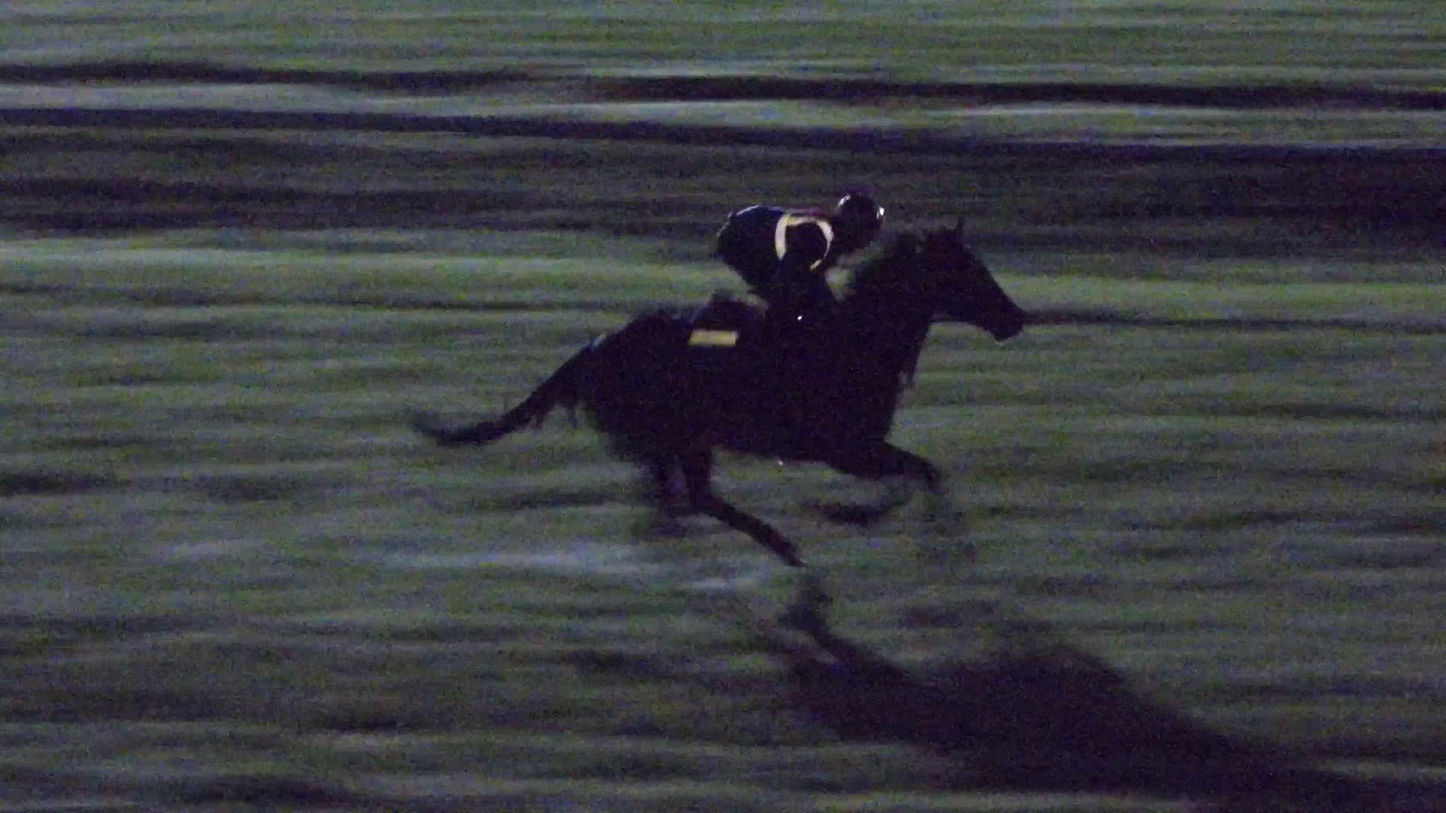racing-horse: (402, 116, 1037, 662)
